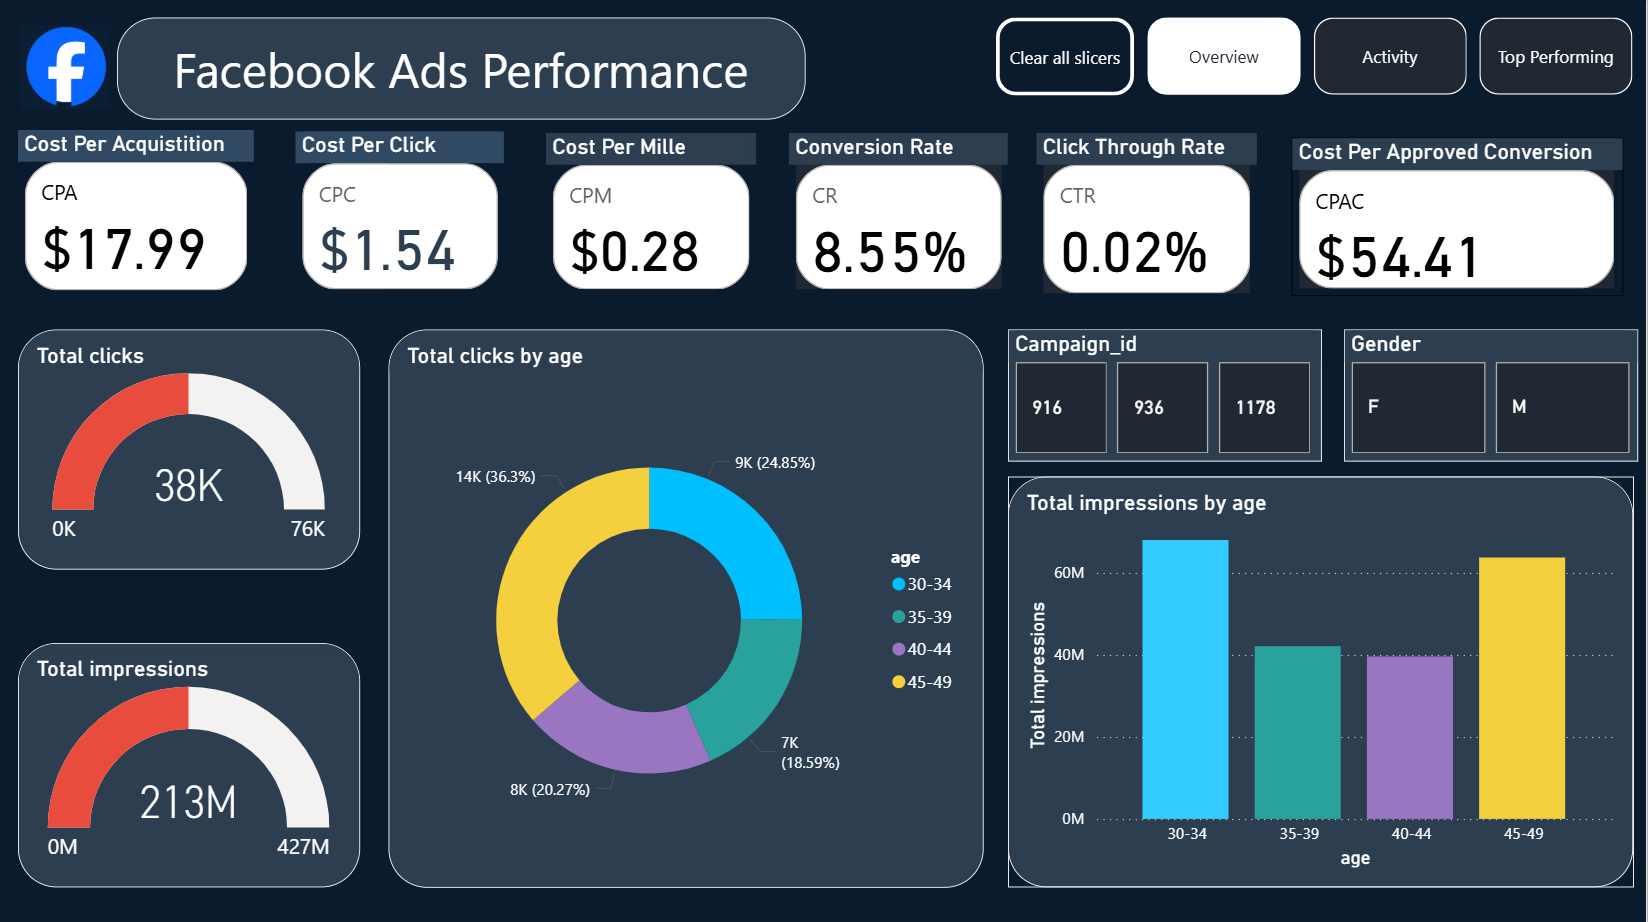

This screenshot's page, from the dashboard's own definition file:
{"tool":"powerbi","page":{"name":"Overview","canvas":[1280,720],"ordinal":0},"visuals":[{"type":"cardVisual","title":"Cost Per Acquistition","fields":{"Data":["data.CPA"]},"box":[14,102.6,183.1,129.4],"z":0},{"type":"cardVisual","title":"Cost Per Approved Conversion","fields":{"Data":["data.CPAC"]},"box":[1004,108.4,257.7,123.6],"z":1000},{"type":"cardVisual","title":"Cost Per Mille","fields":{"Data":["data.CPM"]},"box":[424.5,105,163.3,127.1],"z":2000},{"type":"cardVisual","title":"Conversion Rate","fields":{"Data":["data.CR"]},"box":[613.4,105,170.3,127.1],"z":3000},{"type":"cardVisual","title":"Click Through Rate","fields":{"Data":["data.CTR"]},"box":[805.8,105,171.4,129.4],"z":4000},{"type":"cardVisual","title":"Cost Per Click","fields":{"Data":["data.CPC"]},"box":[229.7,103.8,162.1,128.3],"z":5000},{"type":"gauge","fields":{"Y":["data.Total clicks"]},"box":[14,257.7,265.9,186.6],"z":6000},{"type":"gauge","fields":{"Y":["data.Total impressions"]},"box":[14,501.4,265.9,190.1],"z":7000},{"type":"donutChart","fields":{"Category":["data.age"],"Y":["data.Total clicks"]},"box":[302,257.7,463,433.8],"z":8000},{"type":"columnChart","fields":{"Category":["data.age"],"Y":["data.Total impressions"]},"box":[783.6,372,486.3,319.5],"z":9000},{"type":"actionButton","box":[774.3,15.2,107.3,60.6],"z":10000},{"type":"pageNavigator","box":[892.1,15.2,377.8,60.6],"z":11000},{"type":"advancedSlicerVisual","title":"Campaign_id","fields":{"Values":["data.campaign_id"]},"box":[783.6,257.7,243.7,102.6],"z":12000},{"type":"advancedSlicerVisual","title":"Gender","fields":{"Values":["data.gender"]},"box":[1044.8,257.7,228.6,102.6],"z":13000},{"type":"textbox","box":[91,15.2,535.2,79.3],"z":14000},{"type":"image","box":[10.5,14,80.5,80.5],"z":15000}]}

Visuals, with their boxes in screenshot pixels (x1, y1, x2, y2), scaled from the page's 1280x720 canvas onto the 1648x922 screenshot:
"Cost Per Acquistition" cardVisual: {"x1": 18, "y1": 131, "x2": 254, "y2": 297}
"Cost Per Approved Conversion" cardVisual: {"x1": 1293, "y1": 139, "x2": 1624, "y2": 297}
"Cost Per Mille" cardVisual: {"x1": 547, "y1": 134, "x2": 757, "y2": 297}
"Conversion Rate" cardVisual: {"x1": 790, "y1": 134, "x2": 1009, "y2": 297}
"Click Through Rate" cardVisual: {"x1": 1037, "y1": 134, "x2": 1258, "y2": 300}
"Cost Per Click" cardVisual: {"x1": 296, "y1": 133, "x2": 504, "y2": 297}
gauge - data.Total clicks: {"x1": 18, "y1": 330, "x2": 360, "y2": 569}
gauge - data.Total impressions: {"x1": 18, "y1": 642, "x2": 360, "y2": 886}
donutChart - data.age x data.Total clicks: {"x1": 389, "y1": 330, "x2": 985, "y2": 886}
columnChart - data.age x data.Total impressions: {"x1": 1009, "y1": 476, "x2": 1635, "y2": 886}
actionButton: {"x1": 997, "y1": 19, "x2": 1135, "y2": 97}
pageNavigator: {"x1": 1149, "y1": 19, "x2": 1635, "y2": 97}
"Campaign_id" advancedSlicerVisual: {"x1": 1009, "y1": 330, "x2": 1323, "y2": 461}
"Gender" advancedSlicerVisual: {"x1": 1345, "y1": 330, "x2": 1640, "y2": 461}
textbox: {"x1": 117, "y1": 19, "x2": 806, "y2": 121}
image: {"x1": 14, "y1": 18, "x2": 117, "y2": 121}
